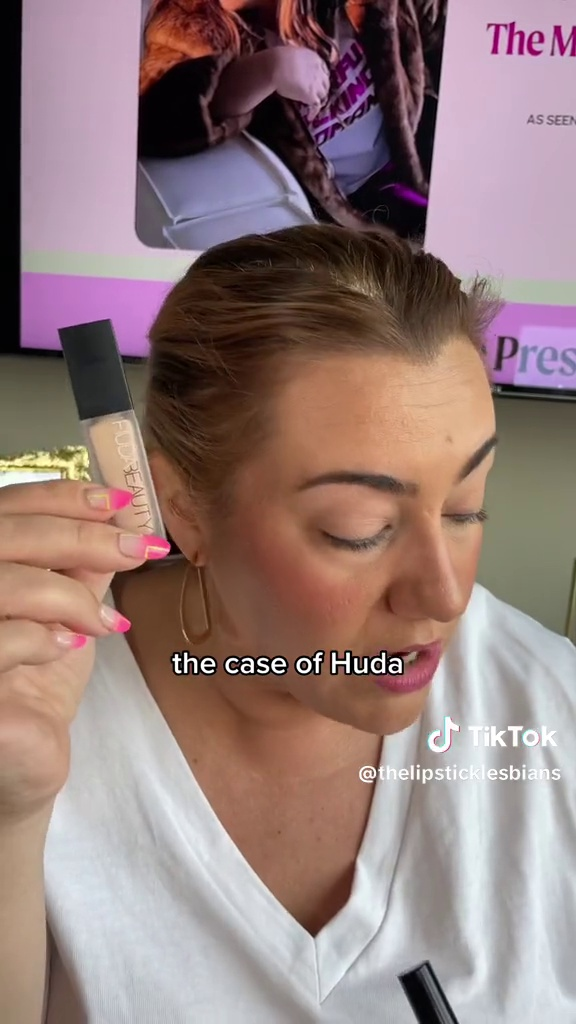train' :'yolo_data/train/images',: (49, 311, 185, 566)
